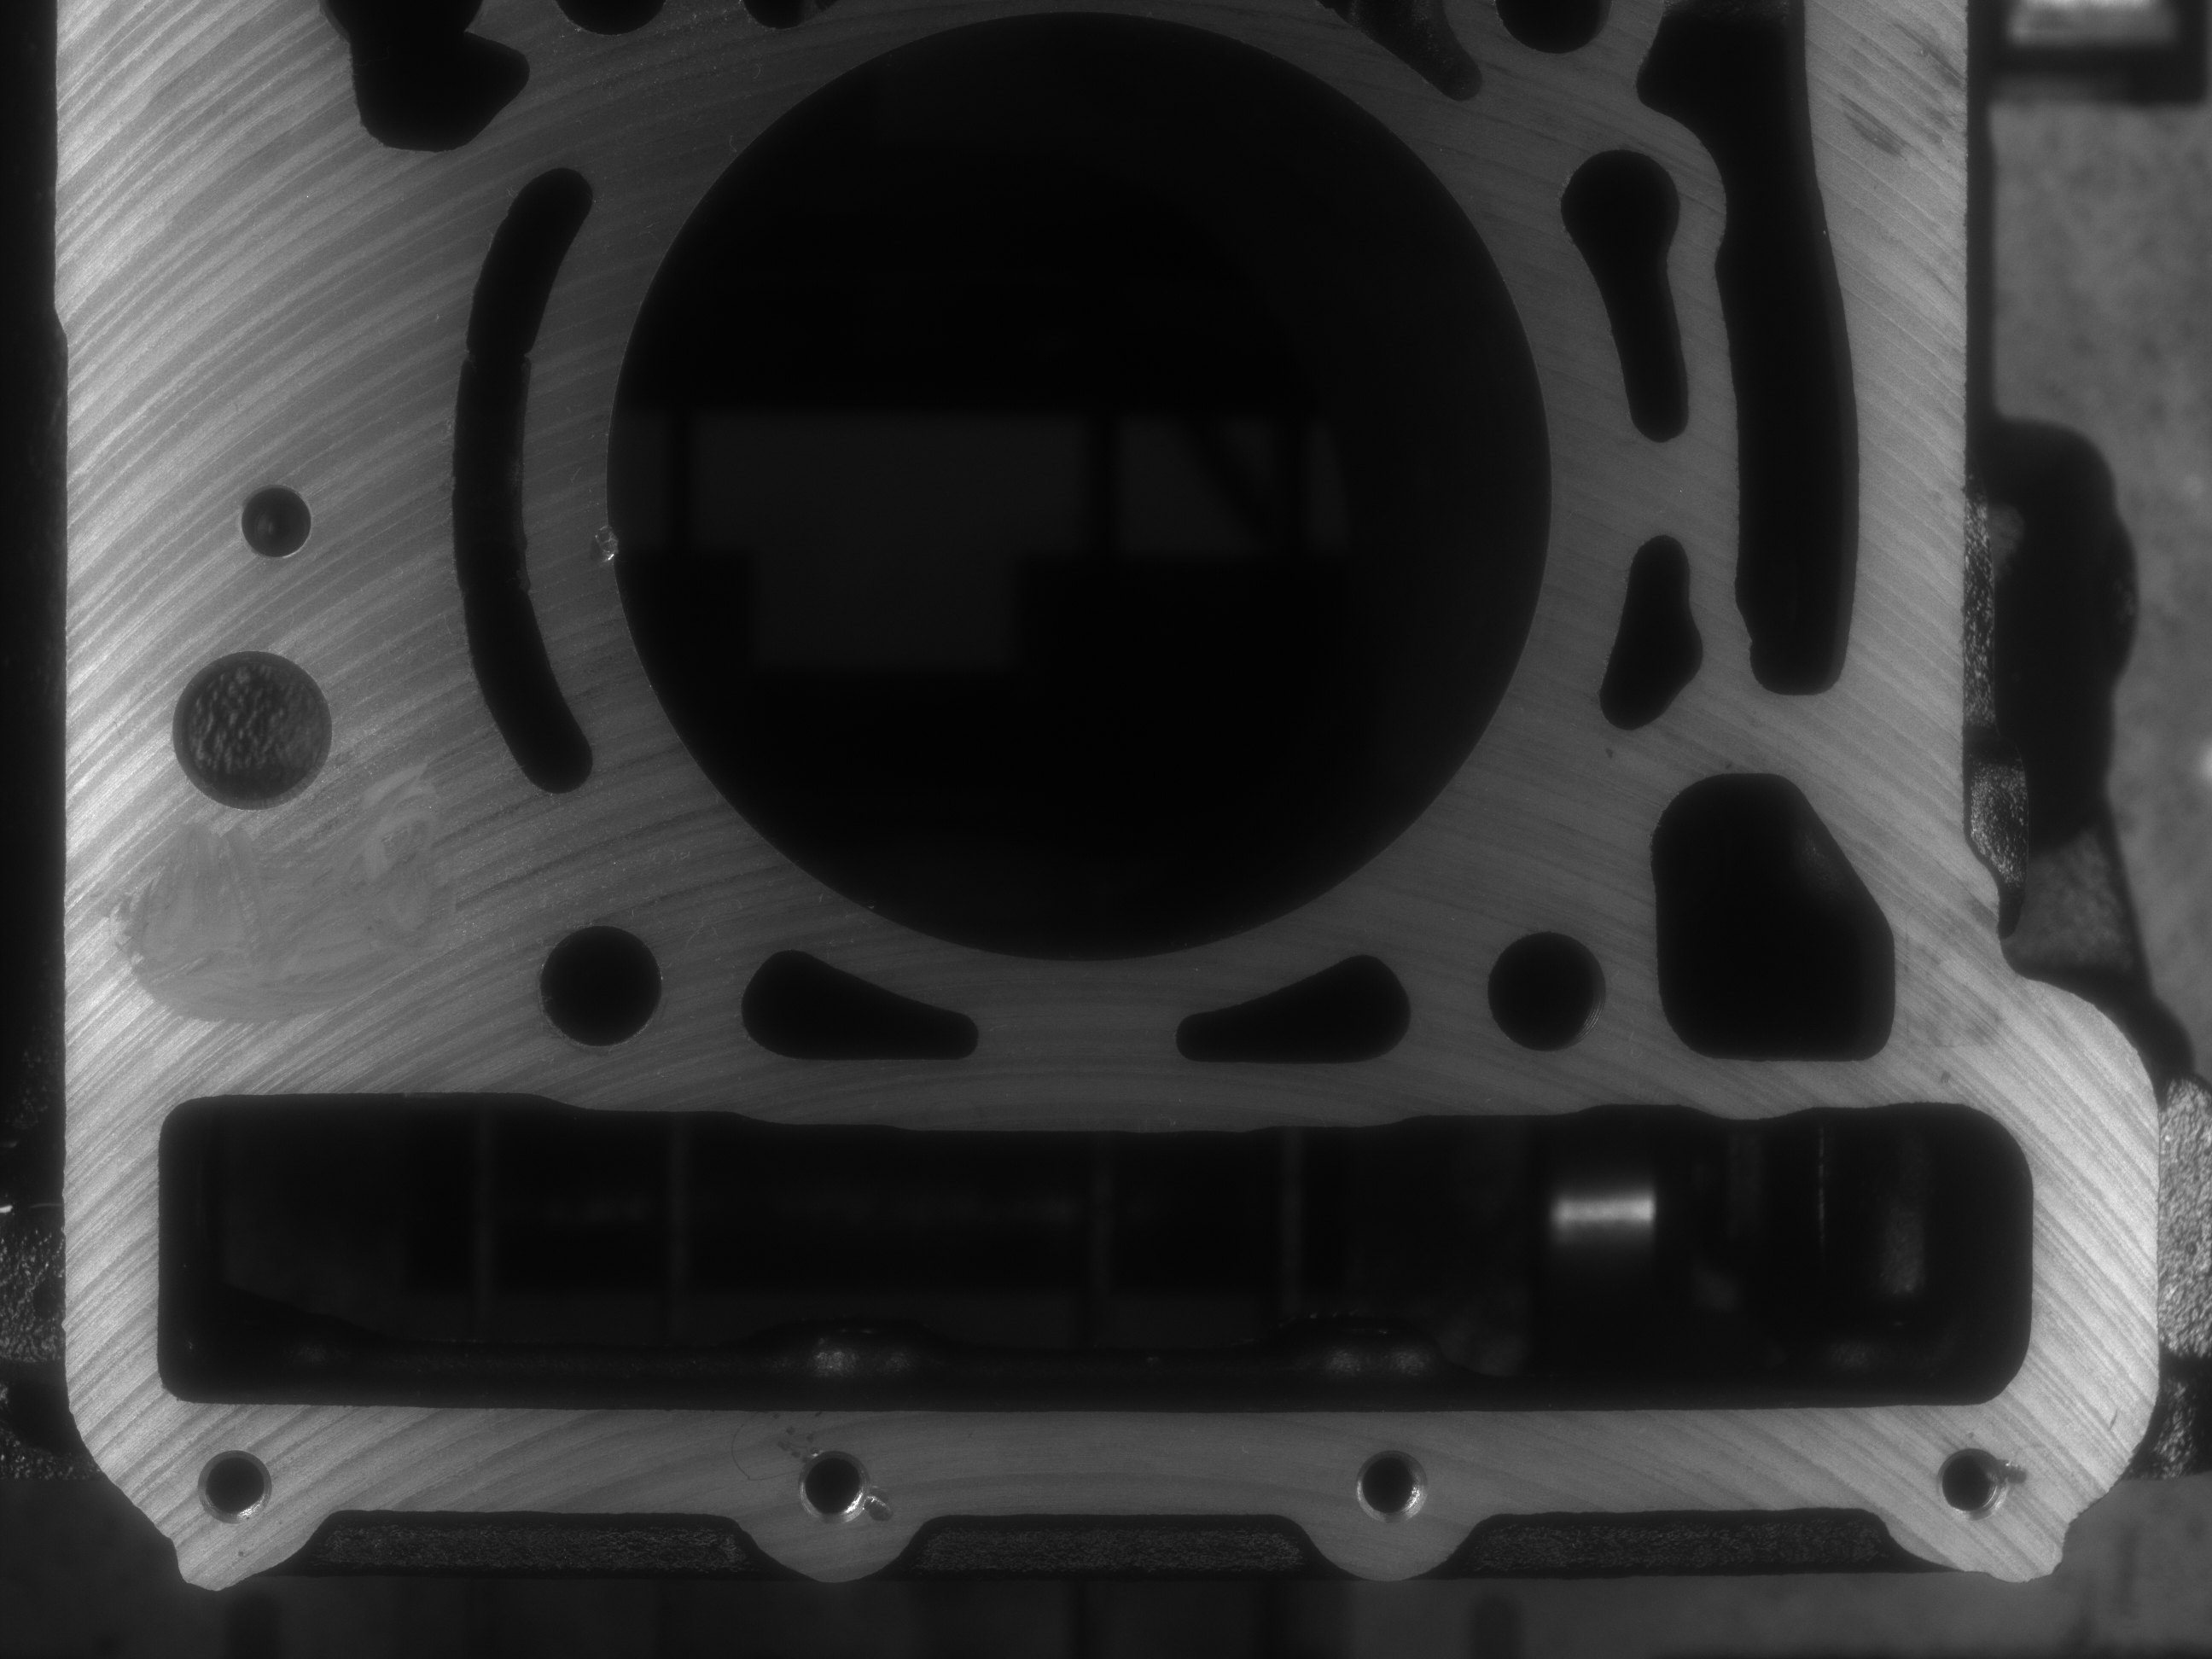dirty: (111, 805, 428, 999)
shrinkage: (864, 1486, 900, 1525)
